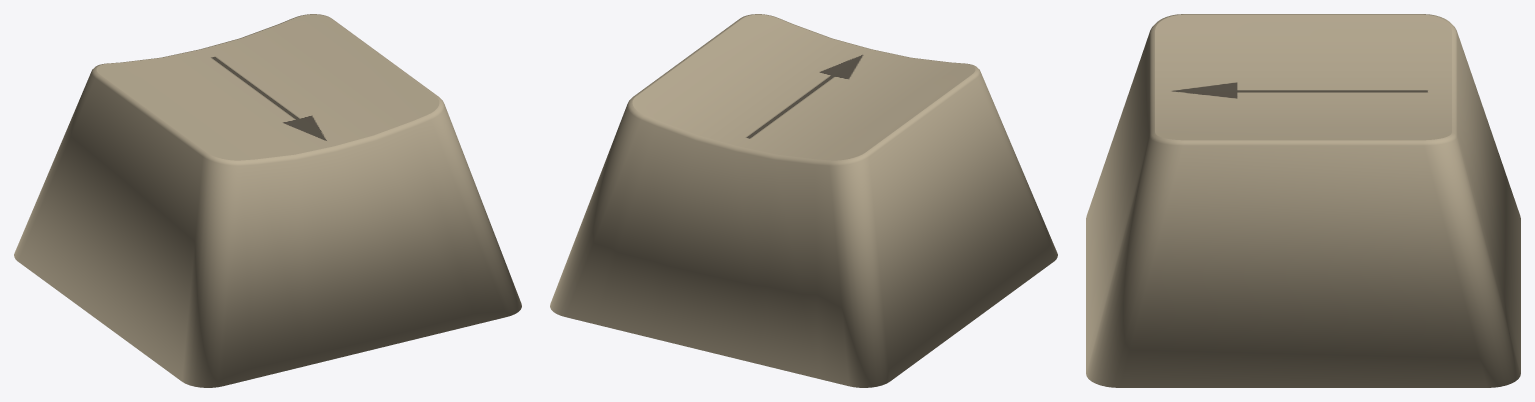
The model's file is Key.fbx.
3 renders of one model, left to right at view 1: azimuth 30°, elevation 25°; view 2: azimuth 150°, elevation 25°; view 3: azimuth 270°, elevation 25°, orthographic. The views are drawn at different scales.
Parts seen in each view (by area): view 1: Cube; view 2: Cube; view 3: Cube.
Boxes of the visible parts, x1=… form: Cube: x1=14, y1=14, x2=521, y2=387; Cube: x1=550, y1=14, x2=1057, y2=387; Cube: x1=1086, y1=14, x2=1520, y2=387.
Size of the model in its own units: 330 by 183 by 330.
